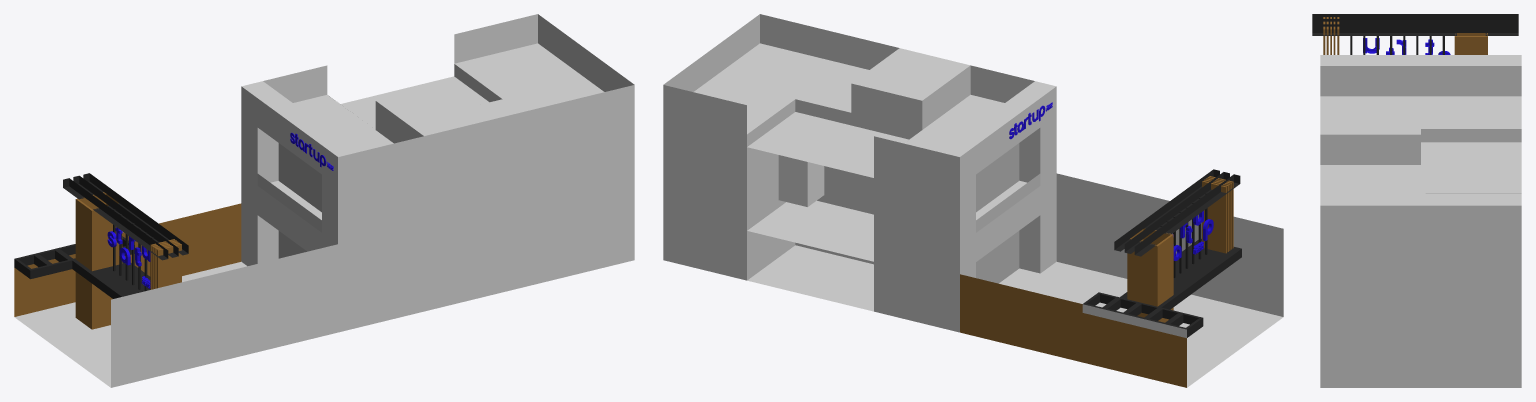
The model's file is PredioStartup 1.fbx.
3 renders of one model, left to right at view 1: azimuth 30°, elevation 25°; view 2: azimuth 150°, elevation 25°; view 3: azimuth 270°, elevation 25°, orthographic. The views are drawn at different scales.
Visible parts, largest first — view 1: Cubo, Plano.003, Curve.001; view 2: Cubo, Cube, Plano, Curve.001; view 3: Cubo, Curve.001.
Part boxes in pixels (box(x1,y1,x2,y2)): Cubo: box(14, 14, 634, 387); Plano.003: box(157, 244, 181, 288); Curve.001: box(107, 227, 150, 288); Cubo: box(663, 14, 1283, 387); Cube: box(778, 155, 824, 206); Plano: box(1202, 181, 1226, 253); Curve.001: box(1172, 211, 1213, 260); Cubo: box(1312, 14, 1521, 387); Curve.001: box(1363, 38, 1450, 54).
Size of the model in its own units: 1806 by 578 by 601.
